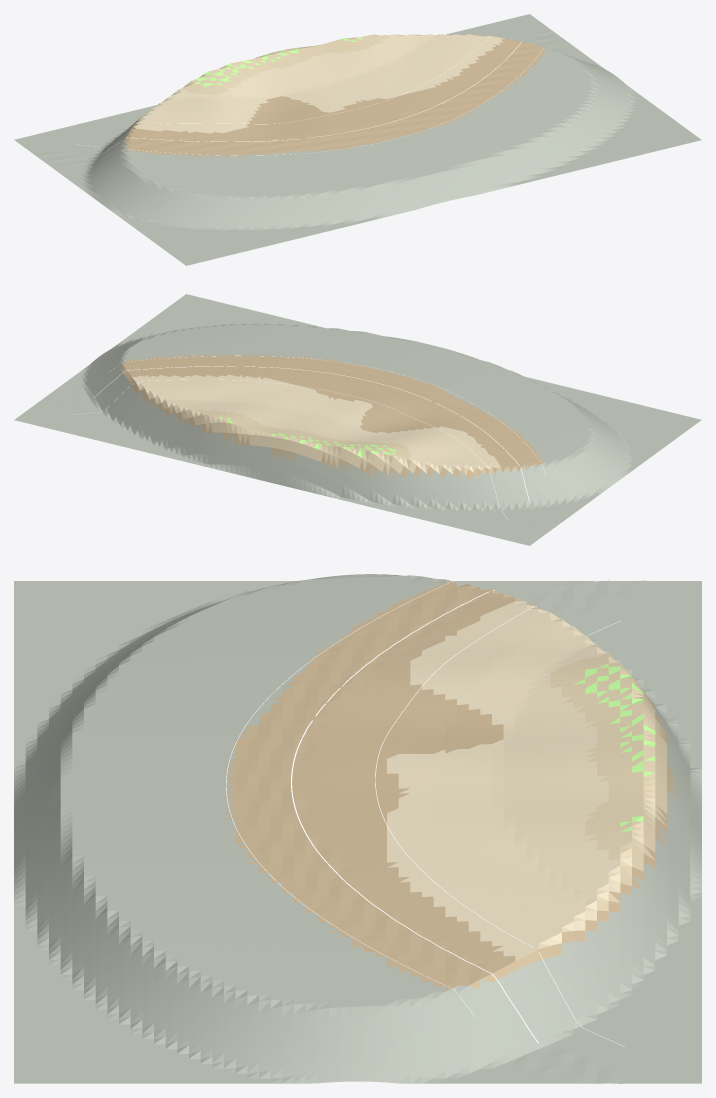
The model's file is beach_shore_near.glb.
The picture shows the model from 3 angles, top to bottom: view 1: azimuth 30°, elevation 25°; view 2: azimuth 150°, elevation 25°; view 3: azimuth 270°, elevation 25°; orthographic projection. The views are drawn at different scales.
Visible parts, largest first — view 1: beach_shore_near; view 2: beach_shore_near; view 3: beach_shore_near.
Part boxes in pixels (x1=…): beach_shore_near: x1=14, y1=14, x2=701, y2=265; beach_shore_near: x1=14, y1=294, x2=701, y2=545; beach_shore_near: x1=14, y1=574, x2=701, y2=1083.
Size of the model in its own units: 128 by 9.04 by 73.75.
